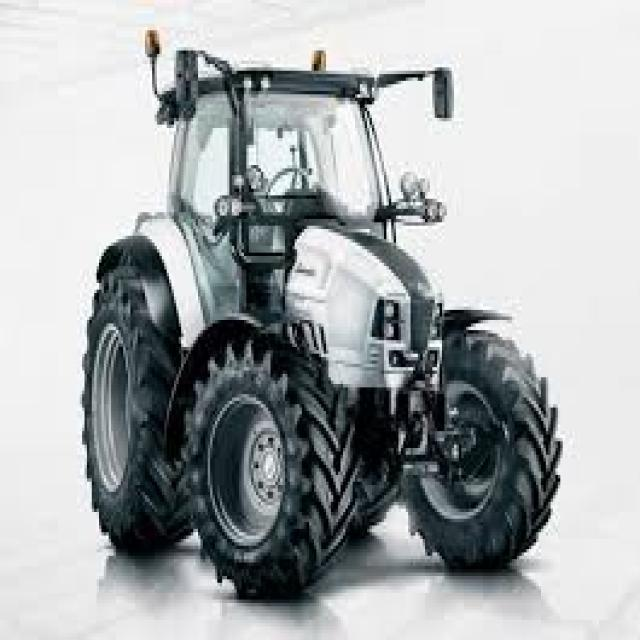Tratores - v5 YOLO V8L 2024-11-13: (81, 60, 560, 601)
